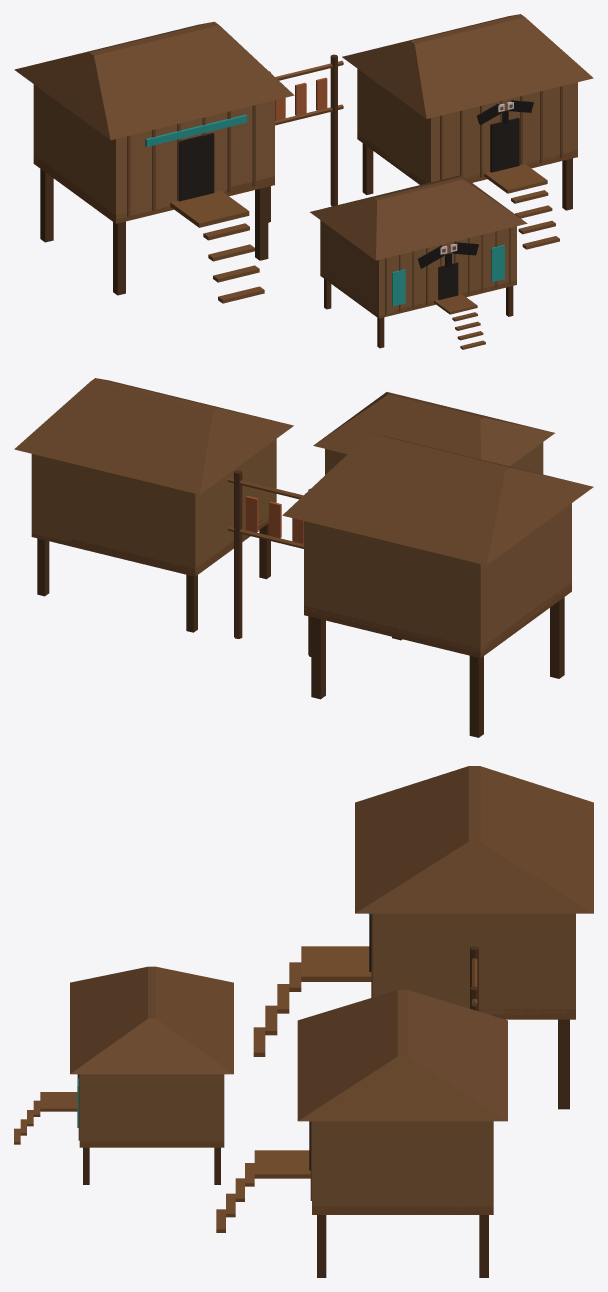
File: bird_compound_broken.glb
3 views of the same model, one above another, from view 1: azimuth 30°, elevation 25°; view 2: azimuth 150°, elevation 25°; view 3: azimuth 270°, elevation 25° (orthographic). The views are drawn at different scales.
Visible parts, largest first — view 1: bird_compound_piece2, bird_compound_piece7, bird_compound_piece13, bird_compound_piece1, bird_compound_piece0, bird_compound_piece6, bird_compound_piece5, bird_compound_piece11, bird_compound_piece8, bird_compound_piece10, bird_compound_piece4, bird_compound_piece9 (+2 smaller); view 2: bird_compound_piece1, bird_compound_piece8, bird_compound_piece0, bird_compound_piece10, bird_compound_piece6, bird_compound_piece11, bird_compound_piece2, bird_compound_piece9, bird_compound_piece3; view 3: bird_compound_piece0, bird_compound_piece2, bird_compound_piece1, bird_compound_piece5, bird_compound_piece7, bird_compound_piece13, bird_compound_piece9, bird_compound_piece8, bird_compound_piece4, bird_compound_piece11, bird_compound_piece6.
Part boxes in pixels (x1=…): bird_compound_piece2: x1=385, y1=110, x2=527, y2=349; bird_compound_piece7: x1=122, y1=50, x2=248, y2=282; bird_compound_piece13: x1=423, y1=60, x2=572, y2=249; bird_compound_piece1: x1=14, y1=23, x2=208, y2=242; bird_compound_piece0: x1=431, y1=14, x2=593, y2=186; bird_compound_piece6: x1=72, y1=81, x2=181, y2=295; bird_compound_piece5: x1=202, y1=22, x2=411, y2=186; bird_compound_piece11: x1=328, y1=186, x2=413, y2=348; bird_compound_piece8: x1=378, y1=29, x2=455, y2=184; bird_compound_piece10: x1=330, y1=42, x2=402, y2=194; bird_compound_piece4: x1=218, y1=148, x2=270, y2=303; bird_compound_piece9: x1=205, y1=21, x2=380, y2=118; bird_compound_piece1: x1=282, y1=438, x2=558, y2=737; bird_compound_piece8: x1=68, y1=402, x2=289, y2=577; bird_compound_piece0: x1=14, y1=378, x2=218, y2=596; bird_compound_piece10: x1=86, y1=451, x2=242, y2=632; bird_compound_piece6: x1=523, y1=470, x2=593, y2=678; bird_compound_piece11: x1=402, y1=412, x2=554, y2=474; bird_compound_piece2: x1=285, y1=392, x2=539, y2=474; bird_compound_piece9: x1=155, y1=437, x2=370, y2=542; bird_compound_piece3: x1=219, y1=491, x2=303, y2=638; bird_compound_piece0: x1=297, y1=1001, x2=507, y2=1277; bird_compound_piece2: x1=14, y1=977, x2=308, y2=1184; bird_compound_piece1: x1=424, y1=766, x2=593, y2=1109; bird_compound_piece5: x1=355, y1=831, x2=489, y2=997; bird_compound_piece7: x1=265, y1=793, x2=439, y2=1011; bird_compound_piece13: x1=216, y1=1005, x2=371, y2=1277; bird_compound_piece9: x1=455, y1=841, x2=548, y2=1044; bird_compound_piece8: x1=319, y1=990, x2=507, y2=1091; bird_compound_piece4: x1=253, y1=941, x2=506, y2=1056; bird_compound_piece11: x1=70, y1=966, x2=233, y2=1046; bird_compound_piece6: x1=350, y1=780, x2=426, y2=951.
Bounding box in the file's own units: 5.5 × 2.4 × 4.85.
